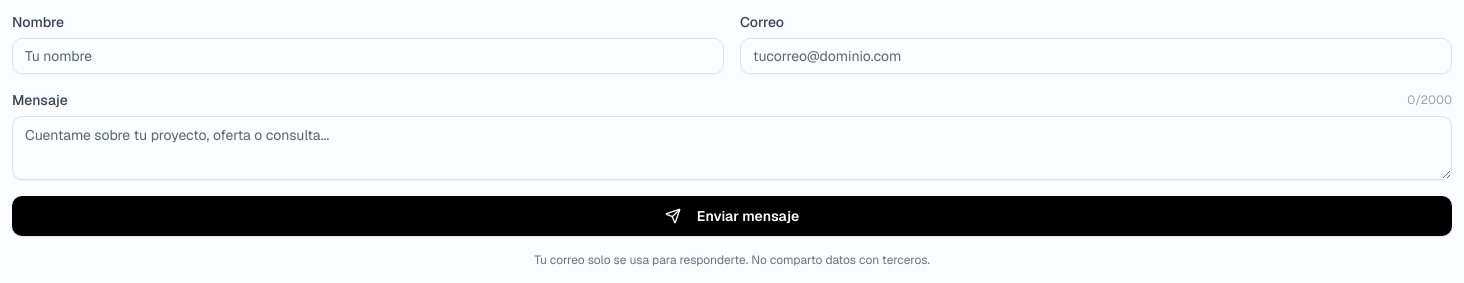
it: ContactForm - contador de caracteres › actualiza el contador cuando se escribe en el textarea
The image size is (1464, 283).
Step 1. Type "Hola mundo" into the text box labelled "Mensaje" → (732, 148), box [12,116,1452,180]
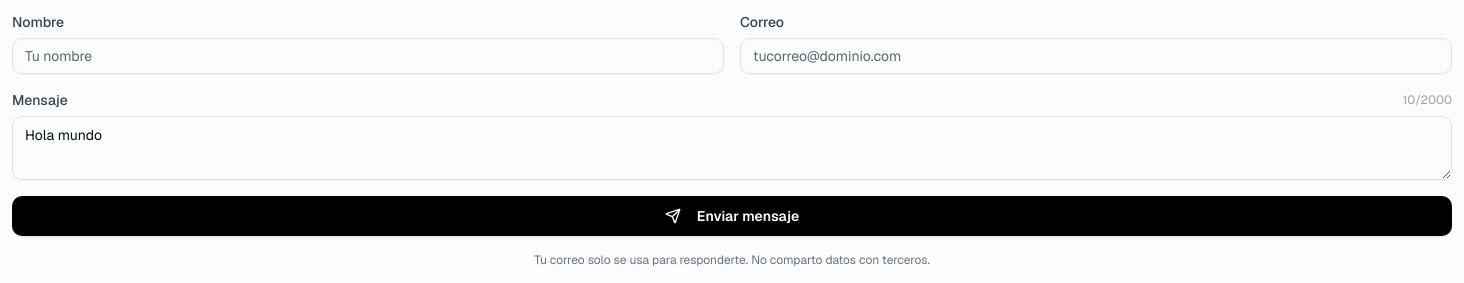
Now the text "10/2000" is shown, box [1403,92,1452,108]
